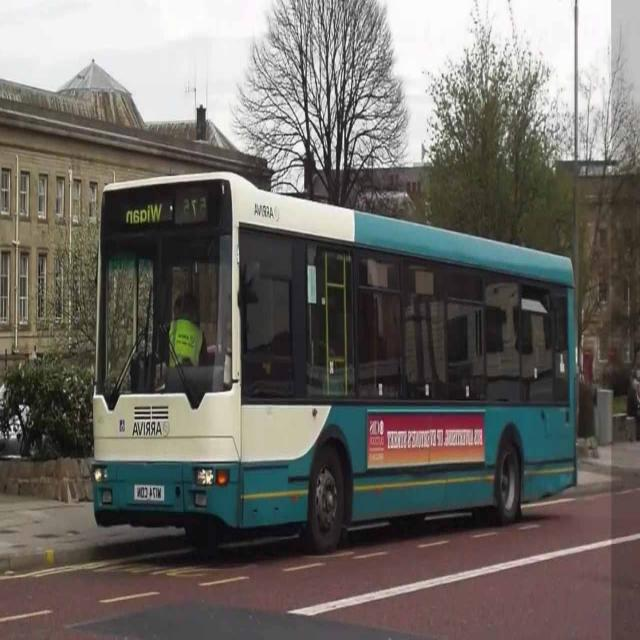bus: (91, 177, 581, 553)
